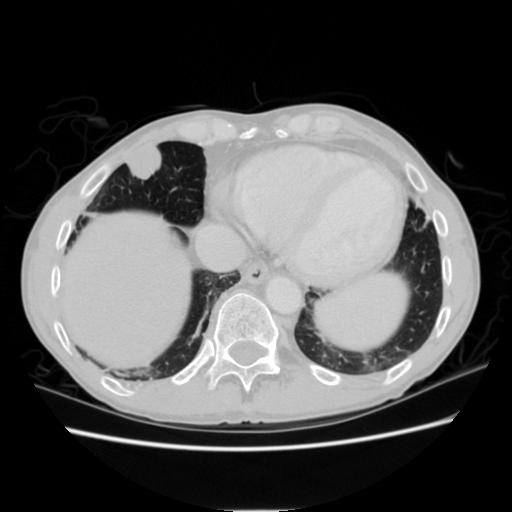nodule: (126, 145, 163, 182)
